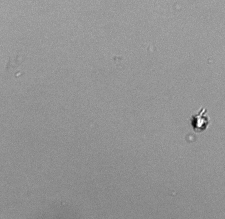Living Cell: (192, 113, 207, 131)
